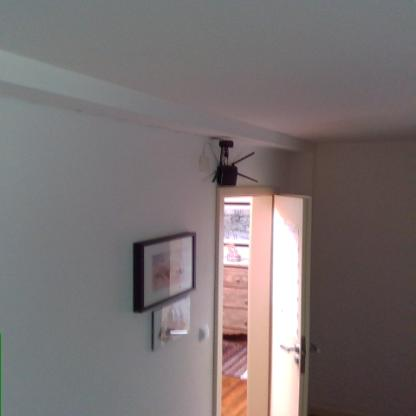semi: (213, 182, 330, 416)
